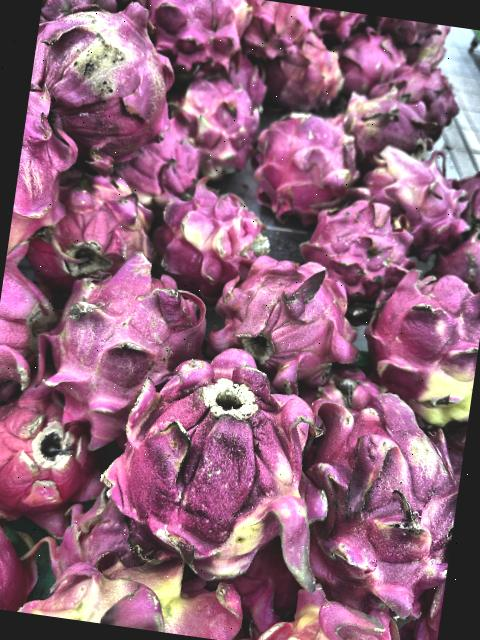buah-naga-belum-matang: (98, 341, 352, 602), (289, 369, 472, 617), (40, 247, 212, 450), (22, 0, 196, 166), (26, 540, 251, 640), (362, 263, 480, 429), (358, 142, 472, 262), (255, 568, 444, 640), (9, 76, 84, 253), (48, 170, 154, 275), (172, 74, 272, 181), (154, 185, 264, 278), (335, 82, 434, 156), (272, 34, 347, 106)
buah-naga-matang: (210, 234, 369, 390), (0, 381, 101, 515), (248, 100, 362, 216), (304, 193, 410, 294), (0, 246, 61, 405), (128, 0, 248, 73), (114, 116, 207, 201), (392, 64, 466, 130), (0, 508, 40, 611), (242, 0, 306, 56), (348, 32, 405, 84)
